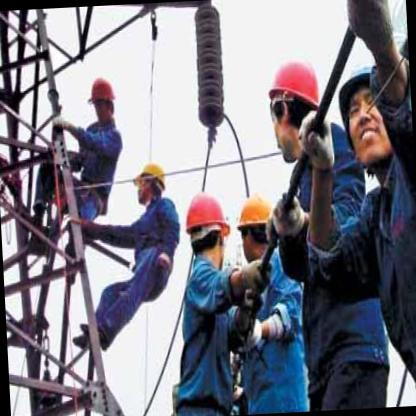helmet: (334, 54, 408, 170), (260, 50, 324, 154), (182, 187, 232, 270), (232, 184, 278, 262), (85, 74, 118, 127), (133, 157, 170, 202)
